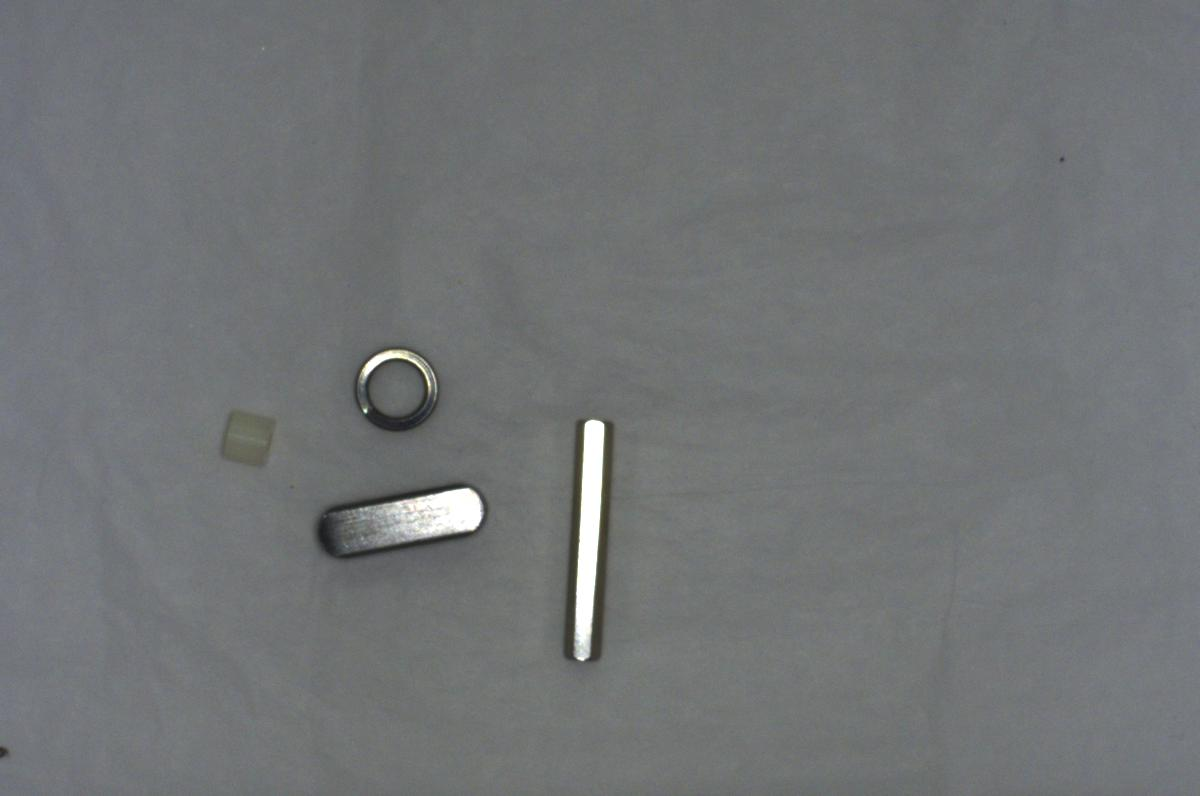Double hexagonal column: (553, 409, 618, 666)
Keybar: (313, 475, 487, 563)
Plastic cushion pillar: (210, 402, 286, 478)
Spring washer: (348, 336, 442, 438)
